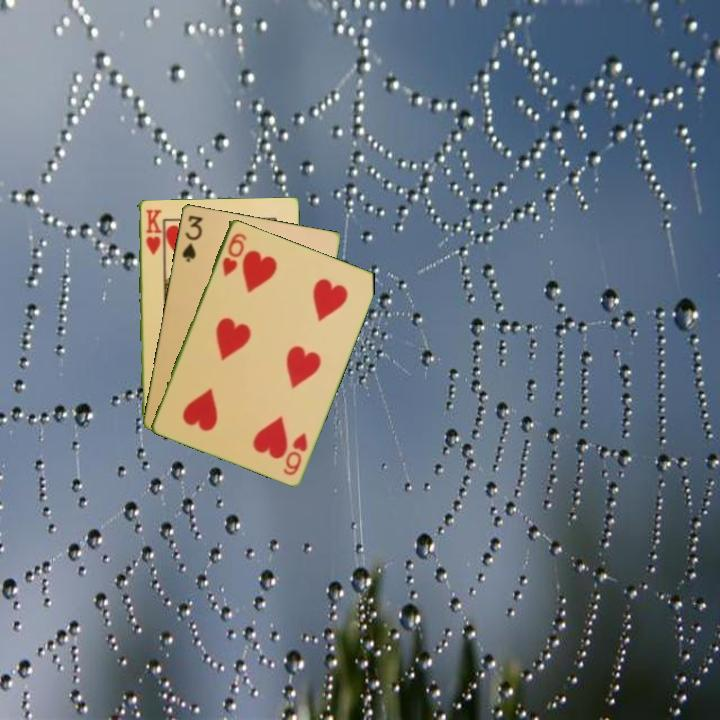3s: (178, 211, 205, 264)
6h: (218, 229, 249, 279), (279, 428, 310, 478)
Kh: (142, 205, 164, 258)
